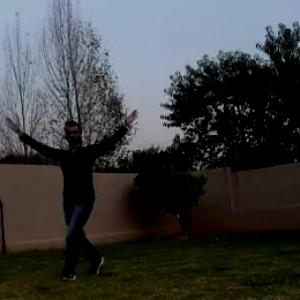takeoff: (5, 104, 146, 283)
